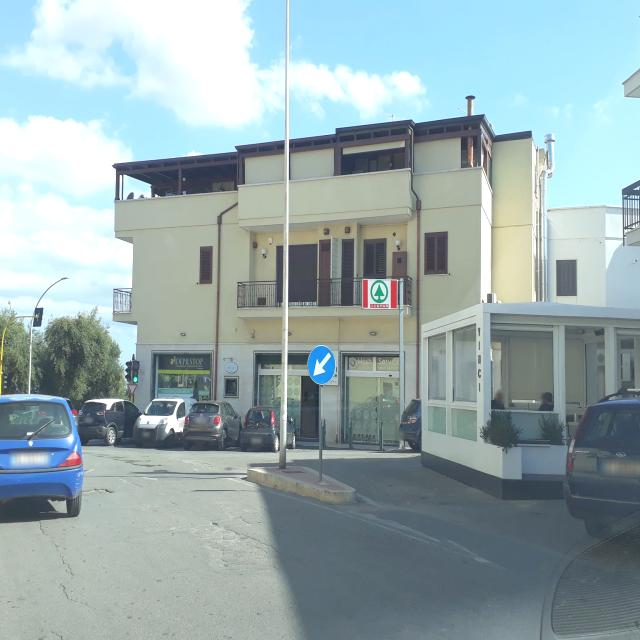car: (563, 385, 640, 546), (0, 392, 84, 519), (76, 397, 142, 447), (133, 398, 195, 446), (183, 399, 242, 449), (240, 405, 286, 452), (398, 397, 422, 449)
